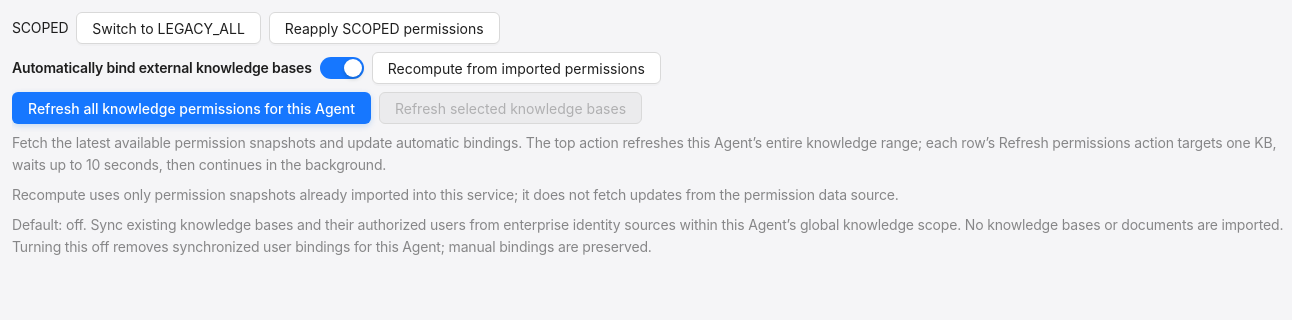
Test: recomputes snapshots without toggling the saved setting
The width and height of the screenshot is (1292, 320).
Click the button "Recompute from imported permissions".
click(516, 68)  # box [372, 52, 661, 84]
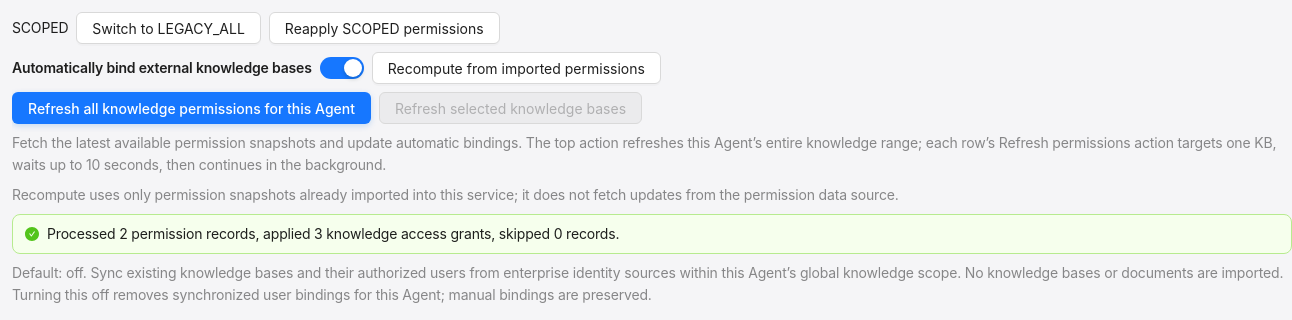
Result: the text "Processed 2 permission records, applied 3 knowledge access grants, skipped 0 records." is shown at [47, 225, 619, 242]
